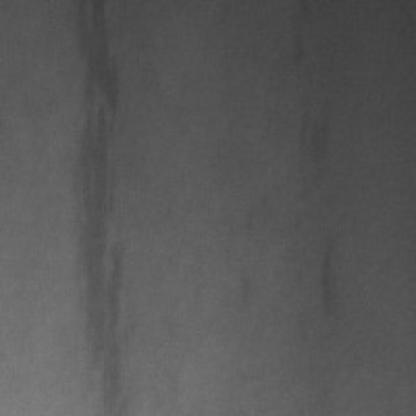inclusion: (62, 0, 136, 412), (295, 106, 339, 177), (312, 237, 350, 314)
